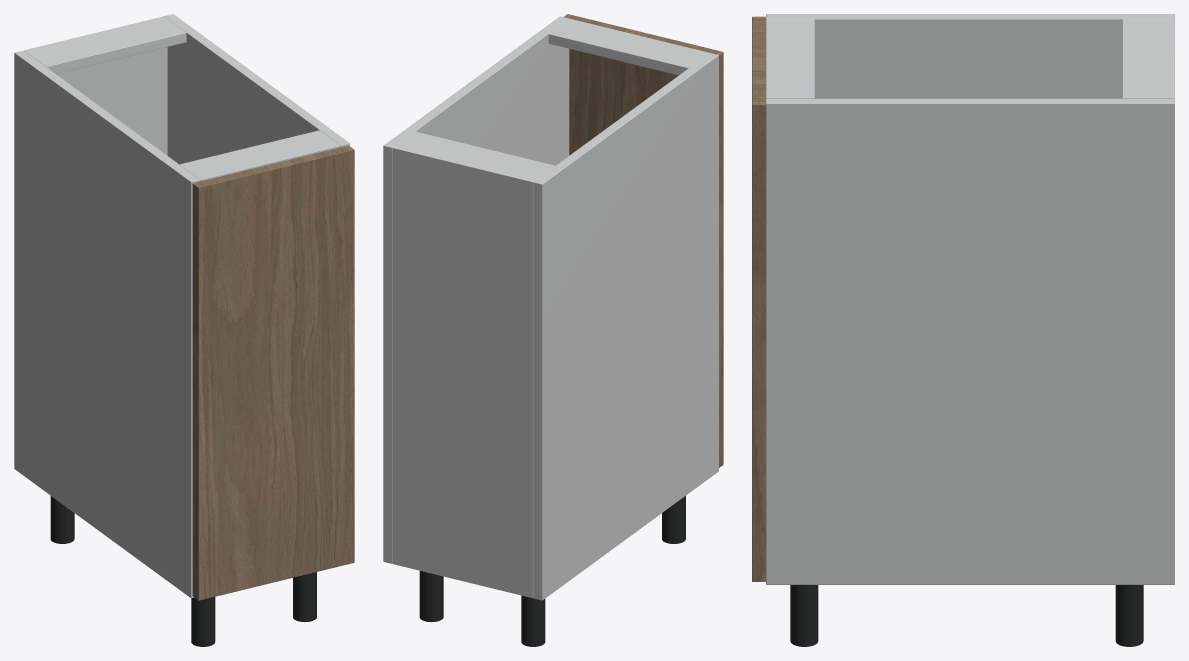
The model's file is oppein-pb-mnw-b12fh.glb.
3 views of the same model, side by side, from view 1: azimuth 30°, elevation 25°; view 2: azimuth 150°, elevation 25°; view 3: azimuth 270°, elevation 25° (orthographic). The views are drawn at different scales.
Parts seen in each view (by area): view 1: Cabinet side, Door, Cabinet side.001, Cabinet back, Top support rail, Top support rail.001, Adjustable foot.001, Adjustable foot.003, Adjustable foot; view 2: Cabinet side, Cabinet back, Cabinet side.001, Door, Top support rail.001, Top support rail, Adjustable foot, Adjustable foot.002, Adjustable foot.001; view 3: Cabinet side.001, Cabinet side, Door, Top support rail.001, Top support rail, Adjustable foot.002, Adjustable foot.003, Cabinet back.
Part boxes in pixels (x1,y1,x2,y2): Cabinet side: [14, 50, 200, 598]; Door: [192, 145, 354, 600]; Cabinet side.001: [164, 14, 349, 164]; Cabinet back: [24, 16, 167, 155]; Top support rail: [25, 18, 186, 73]; Top support rail.001: [179, 130, 340, 181]; Adjustable foot.001: [191, 597, 215, 646]; Adjustable foot.003: [293, 572, 316, 621]; Adjustable foot: [50, 496, 74, 543]; Cabinet side: [533, 53, 718, 600]; Cabinet back: [393, 145, 535, 597]; Cabinet side.001: [383, 16, 569, 563]; Door: [564, 14, 723, 467]; Top support rail.001: [548, 18, 709, 75]; Top support rail: [396, 131, 554, 179]; Adjustable foot: [521, 595, 545, 646]; Adjustable foot.002: [419, 571, 443, 622]; Adjustable foot.001: [662, 496, 685, 543]; Cabinet side.001: [766, 98, 1174, 584]; Cabinet side: [766, 14, 1174, 98]; Door: [752, 16, 765, 581]; Top support rail.001: [766, 19, 814, 98]; Top support rail: [1122, 19, 1166, 98]; Adjustable foot.002: [1115, 585, 1143, 646]; Adjustable foot.003: [790, 585, 818, 646]; Cabinet back: [1167, 19, 1174, 98].
Size of the model in its own units: 0.3048 by 0.8763 by 0.6064.
3 materials, 1 textured.
